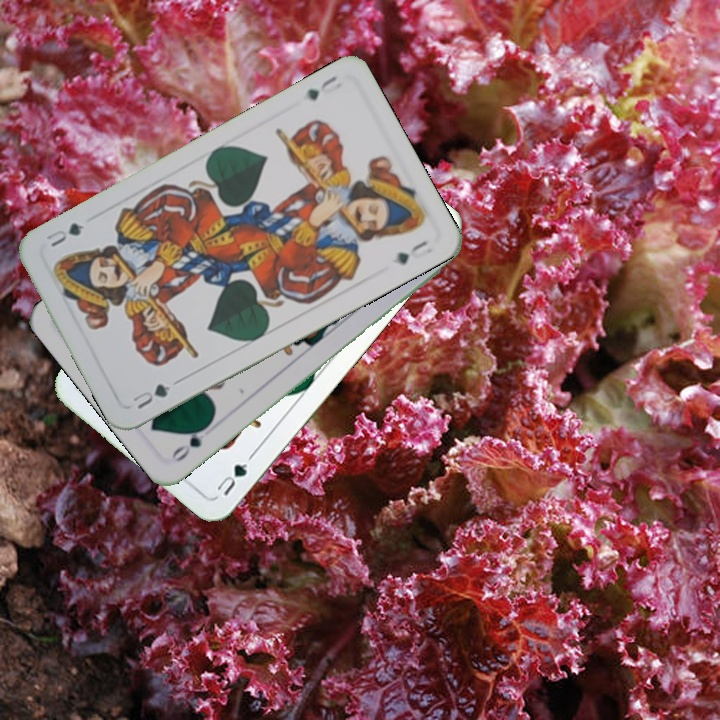GO: (167, 419, 213, 465)
GU: (212, 450, 256, 499), (128, 379, 173, 412), (301, 71, 340, 103)
